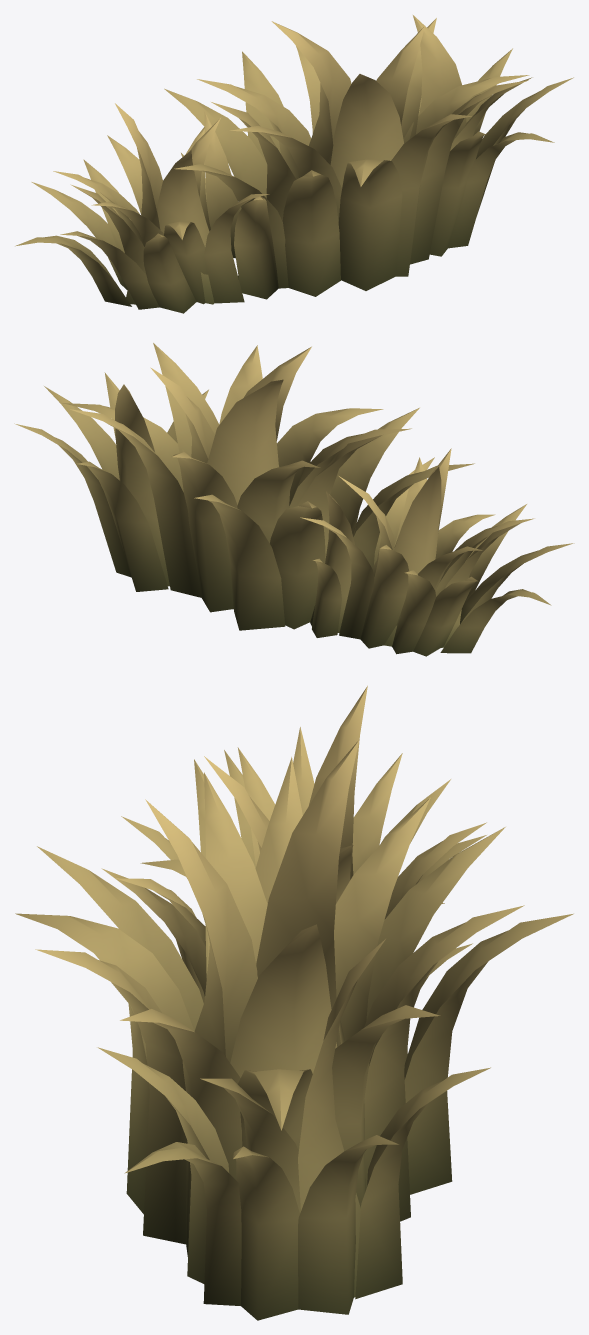
Rendered from PLANT_B.fbx.
The picture shows the model from 3 angles, top to bottom: view 1: azimuth 30°, elevation 25°; view 2: azimuth 150°, elevation 25°; view 3: azimuth 270°, elevation 25°; orthographic projection. The views are drawn at different scales.
Parts seen in each view (by area): view 1: PLANT_C; view 2: PLANT_C; view 3: PLANT_C.
Boxes of the visible parts, x1,y1,x2,y2 form: PLANT_C: (15,15,573,313); PLANT_C: (14,343,574,656); PLANT_C: (15,685,573,1320).
Bounding box in the file's own units: 1.97 × 0.8254 × 0.9853.
